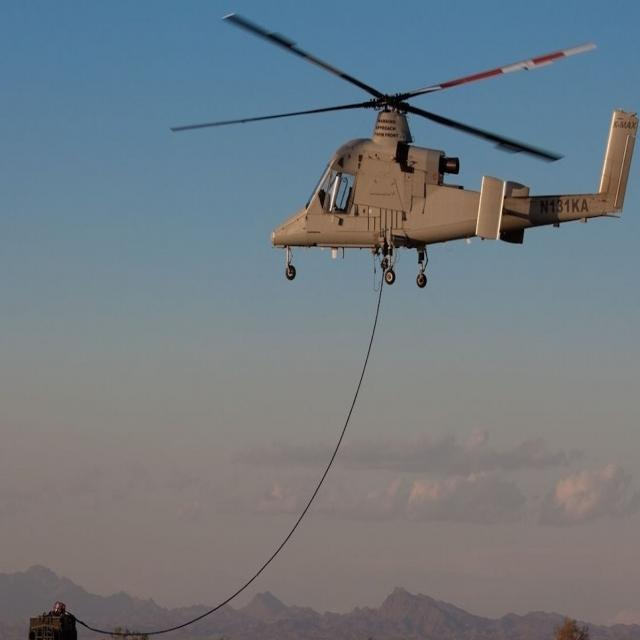helicopter: (172, 14, 640, 292)
